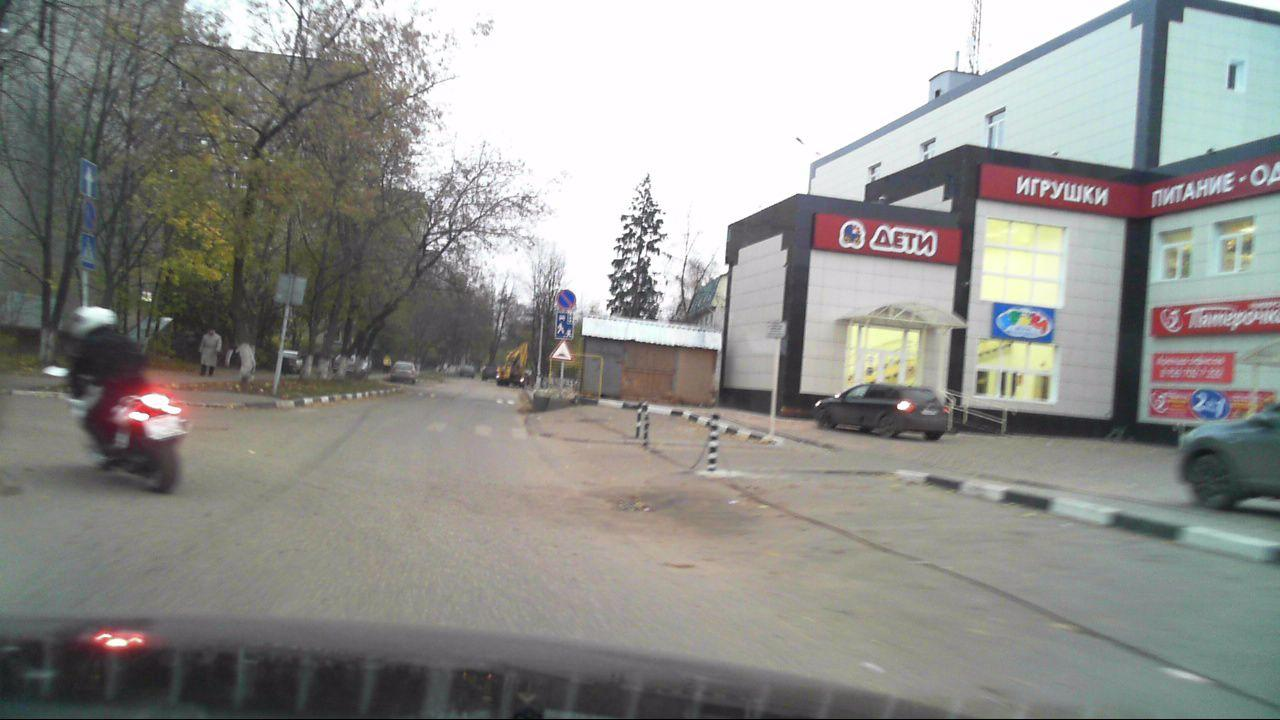1_17: (551, 337, 574, 361)
3_28: (80, 200, 103, 230), (557, 288, 576, 310)
5_19_1: (80, 237, 98, 269)
5_21: (555, 313, 573, 339)
5_5: (79, 158, 99, 197)
